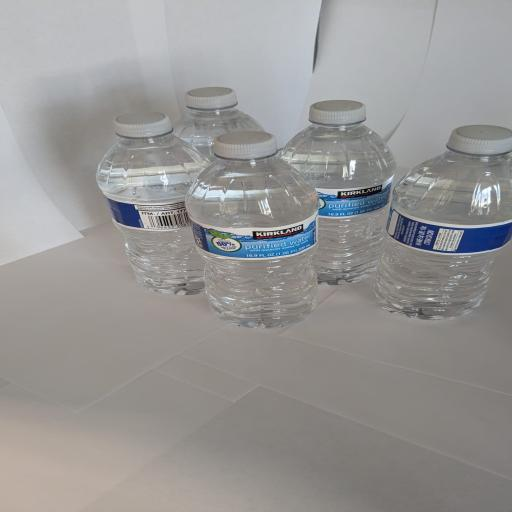waterbottle: (375, 126, 511, 319), (187, 132, 317, 327), (281, 101, 395, 284), (97, 112, 207, 294), (176, 87, 263, 161)
